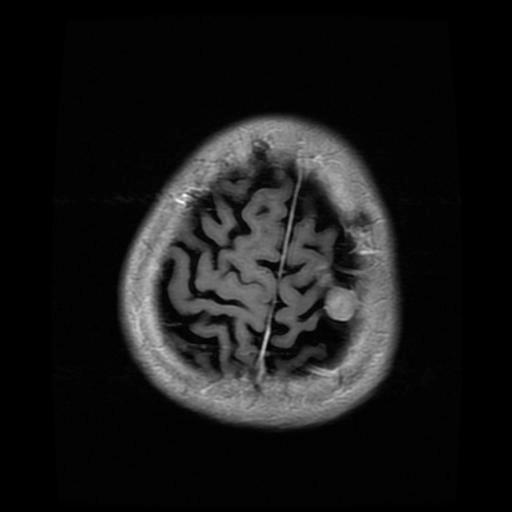Tumour-Meningioma: (311, 267, 372, 342)
